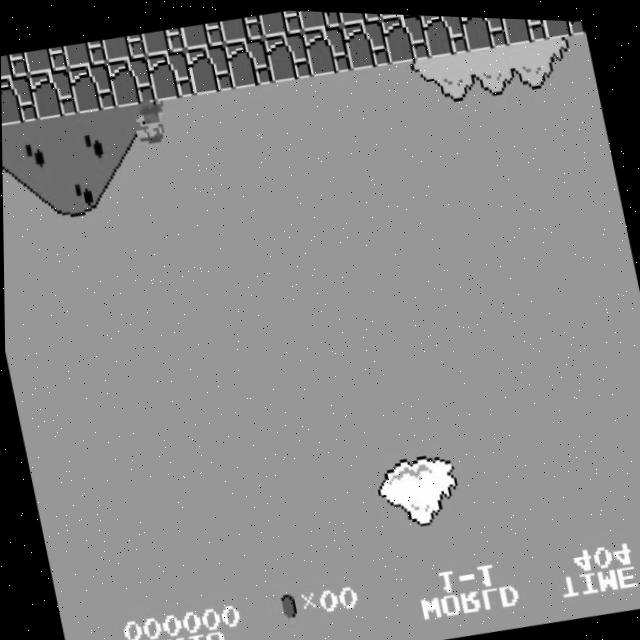11- little_mario: (125, 94, 178, 152)
17- undestructible_block: (67, 60, 117, 115), (302, 21, 352, 76), (106, 54, 156, 108), (184, 41, 234, 95), (263, 28, 313, 82), (146, 47, 195, 102), (28, 67, 77, 121), (224, 35, 273, 89), (342, 15, 391, 69), (380, 11, 430, 62), (420, 12, 469, 56), (1, 73, 38, 127), (459, 13, 508, 50), (62, 38, 108, 70), (219, 12, 264, 44), (101, 32, 147, 63), (498, 14, 547, 43), (23, 45, 68, 76), (141, 25, 186, 56), (180, 19, 225, 50), (258, 8, 303, 37), (537, 16, 586, 37), (297, 9, 342, 30), (1, 52, 29, 83), (337, 10, 382, 24)
